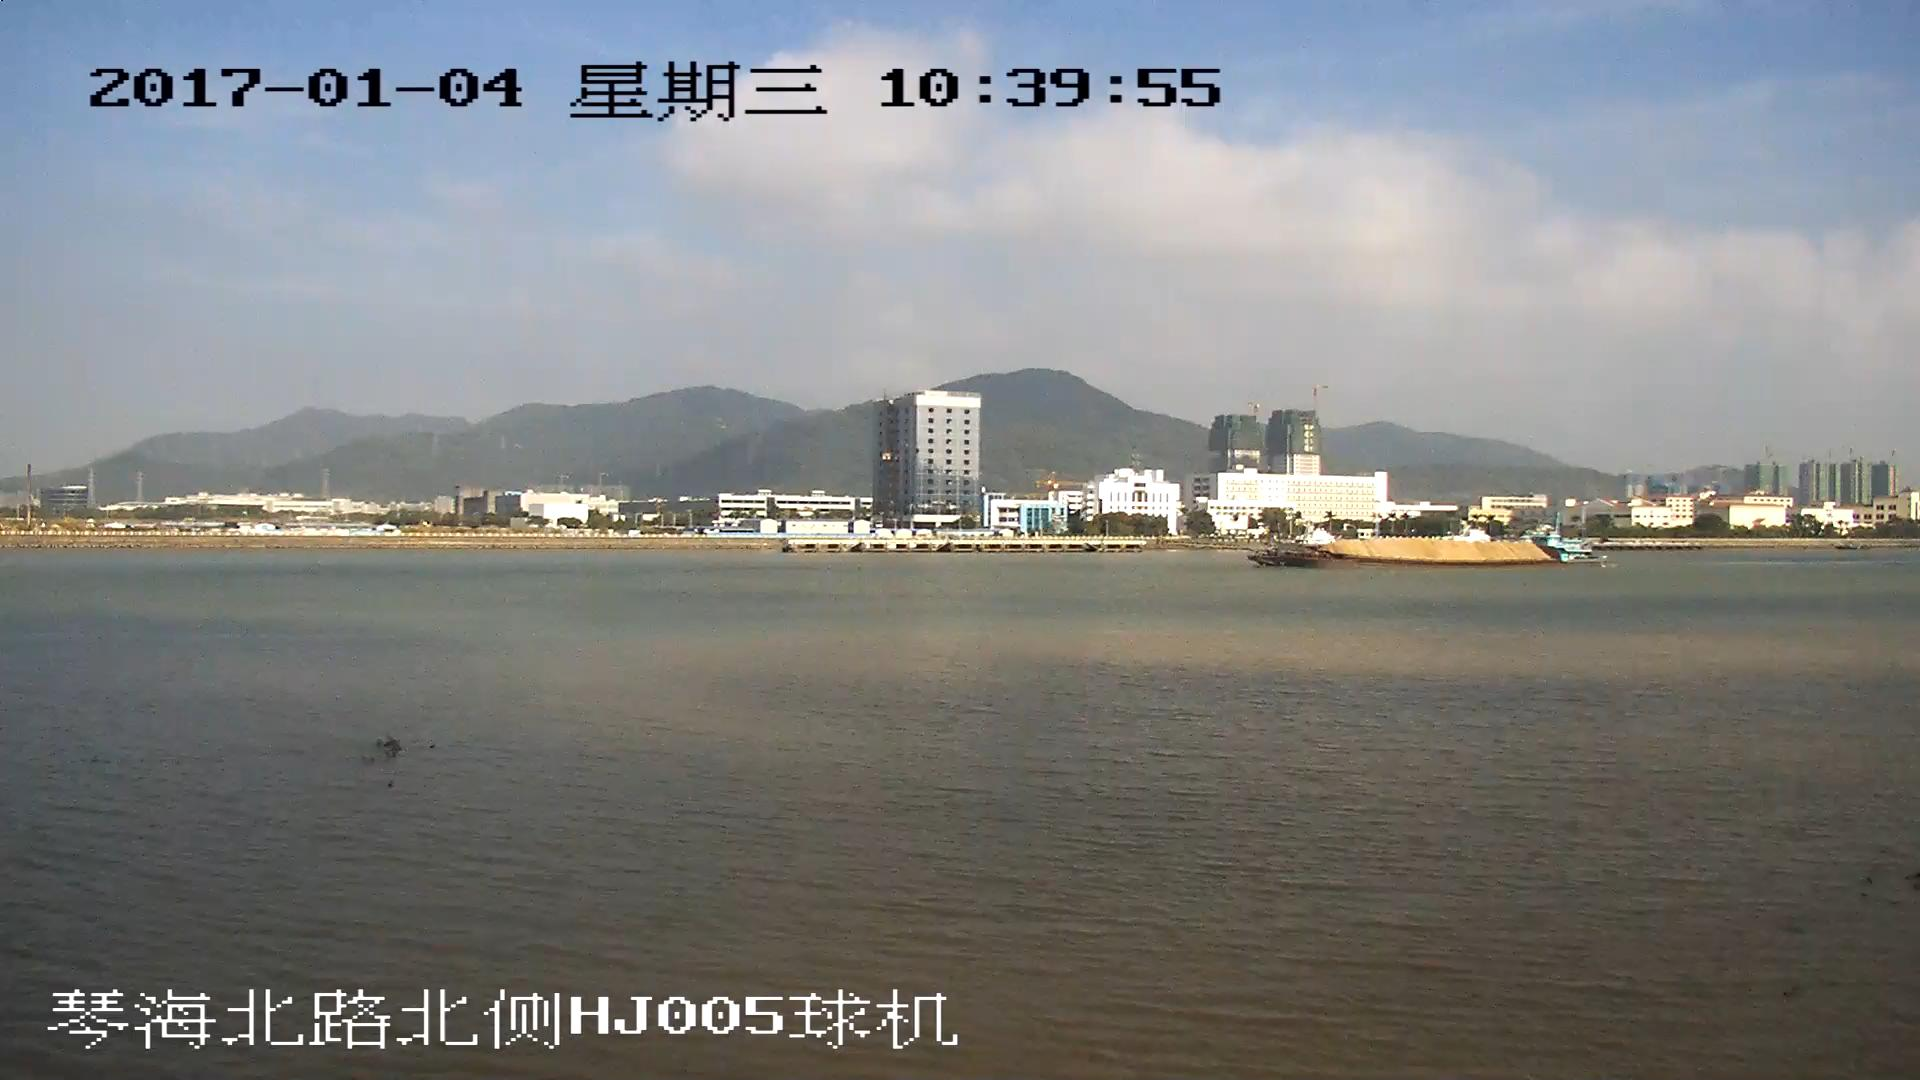ore carrier: (1254, 531, 1591, 568)
